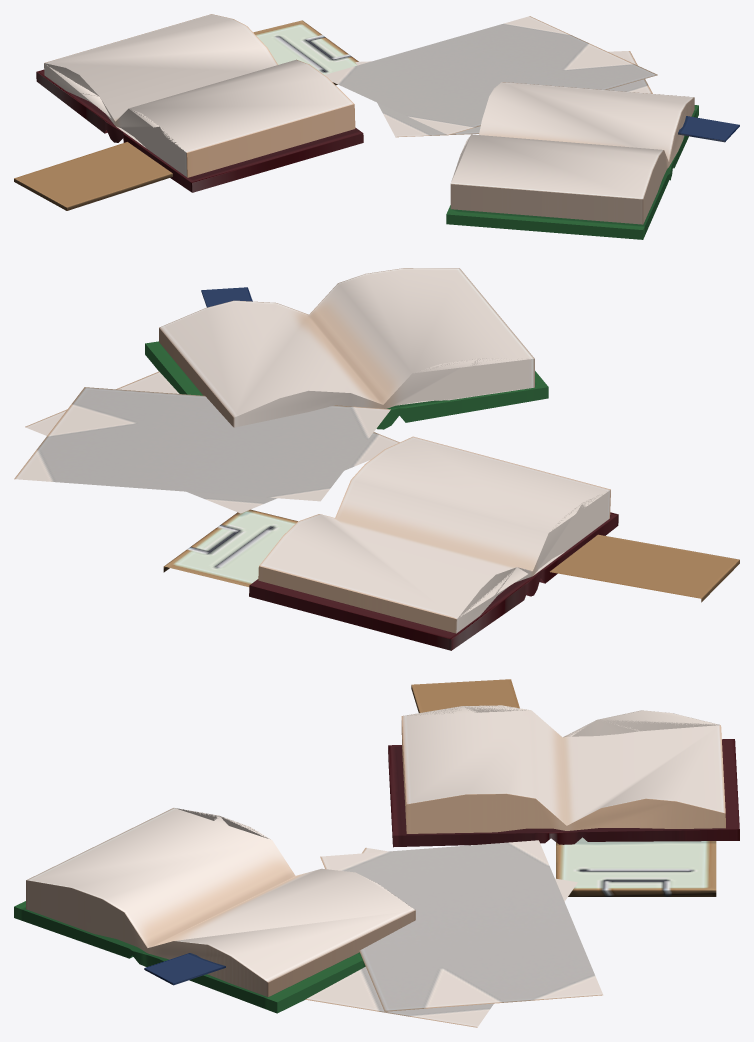
Rendered from Tx_props_books1_37.fbx.
3 views of the same model, one above another, from view 1: azimuth 30°, elevation 25°; view 2: azimuth 150°, elevation 25°; view 3: azimuth 270°, elevation 25° (orthographic). The views are drawn at different scales.
Parts seen in each view (by area): view 1: Tx_props_books1_7; view 2: Tx_props_books1_7; view 3: Tx_props_books1_7.
Boxes of the visible parts, bbox=[...] form: Tx_props_books1_7: bbox=[14, 14, 739, 239]; Tx_props_books1_7: bbox=[14, 268, 739, 650]; Tx_props_books1_7: bbox=[14, 679, 739, 1027].
Size of the model in its own units: 4.61 by 0.3992 by 4.17.
